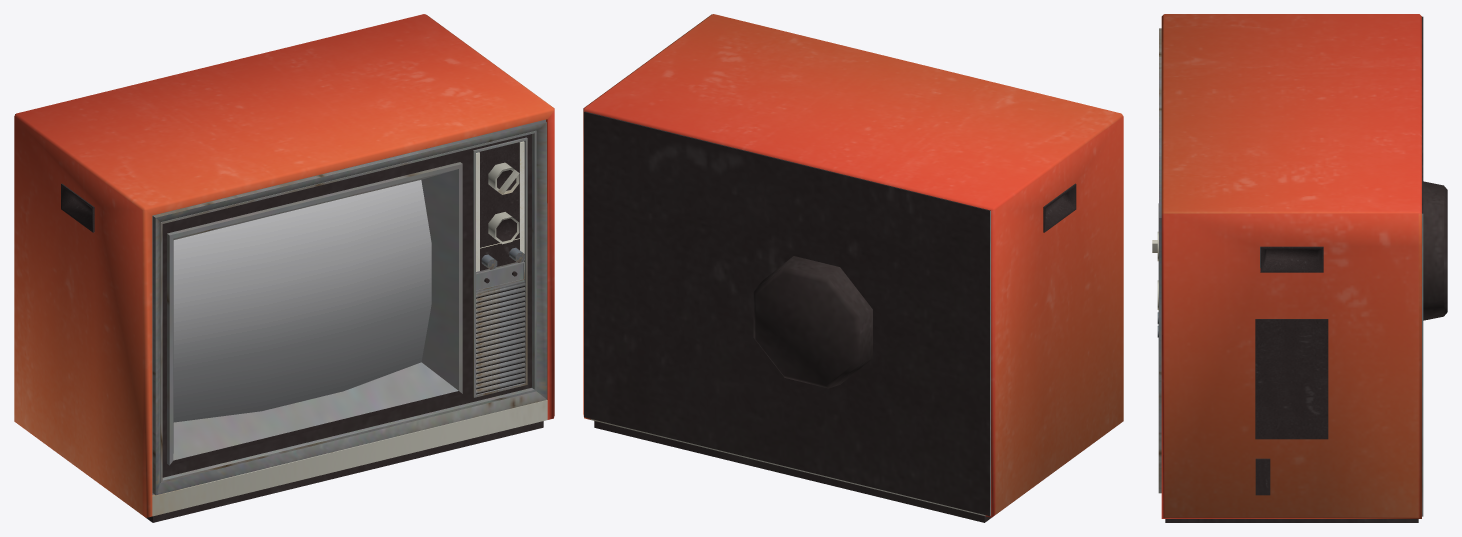
File: oldTV1b.fbx
The picture shows the model from 3 angles, left to right: view 1: azimuth 30°, elevation 25°; view 2: azimuth 150°, elevation 25°; view 3: azimuth 270°, elevation 25°; orthographic projection.
Visible parts, largest first — view 1: oldTV1b; view 2: oldTV1b; view 3: oldTV1b.
Part boxes in pixels (bbox=[...]): oldTV1b: bbox=[14, 14, 554, 522]; oldTV1b: bbox=[583, 14, 1123, 522]; oldTV1b: bbox=[1152, 14, 1447, 522].
Bounding box in the file's own units: 74.81 × 54.83 × 46.51.
